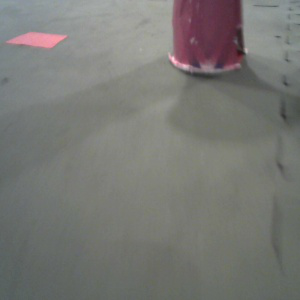right: (169, 1, 248, 74)
